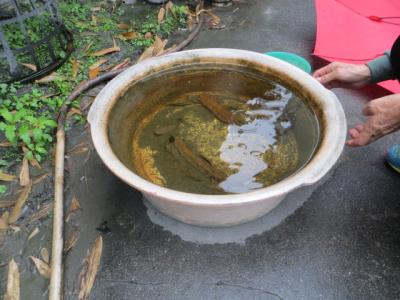bowl: (82, 45, 354, 231)
